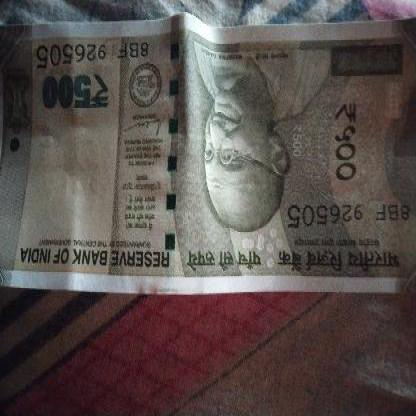New500Front: (0, 19, 415, 290)
